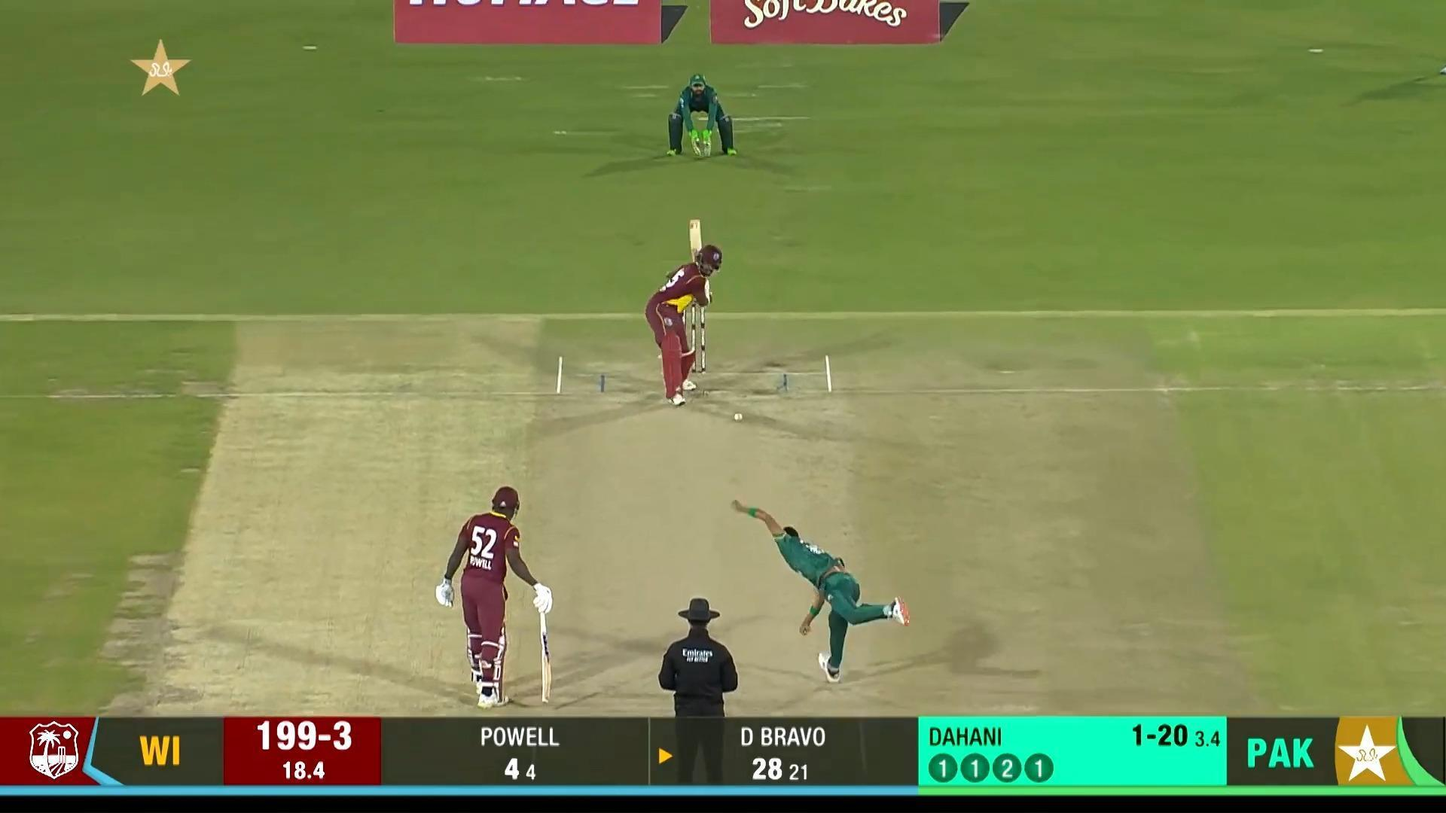BM 1: (644, 219, 723, 406)
BO: (730, 498, 912, 684)
